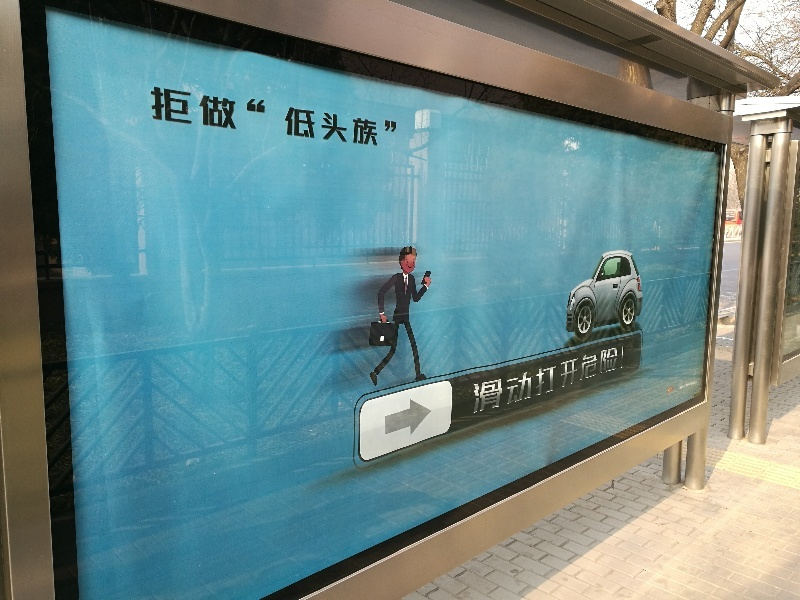text: (465, 345, 480, 416), (481, 345, 496, 416), (497, 345, 512, 416), (513, 345, 528, 416), (529, 345, 544, 416), (545, 345, 560, 416), (561, 345, 576, 416), (577, 345, 592, 416), (593, 345, 608, 416), (609, 345, 624, 416), (161, 84, 176, 151), (177, 84, 192, 151), (193, 84, 208, 151), (209, 84, 224, 151), (225, 84, 240, 151), (241, 84, 256, 151), (257, 84, 272, 151), (273, 84, 288, 151), (289, 84, 304, 151), (305, 84, 320, 151), (321, 84, 336, 151), (337, 84, 352, 151), (353, 84, 368, 151), (369, 84, 384, 151), (385, 84, 399, 151), (152, 84, 160, 151), (625, 345, 630, 416)
